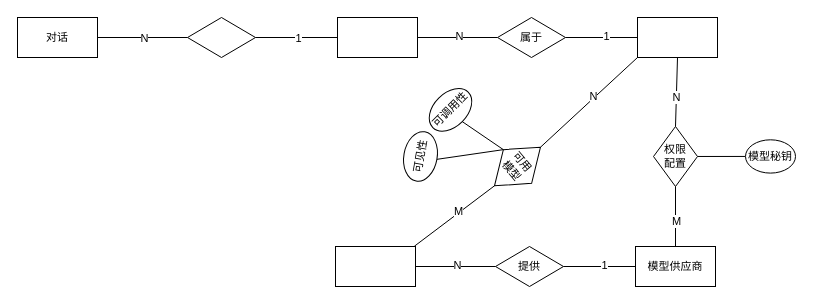
Image size: 813x304. Some labels were removed from this diagram. The shapes that lost their labels are listed below. From the top down, each one's centre as x and y in pixels, then its label:
pixel 221 37: 发起
pixel 377 37: 用户
pixel 677 37: 分组
pixel 375 266: 模型
